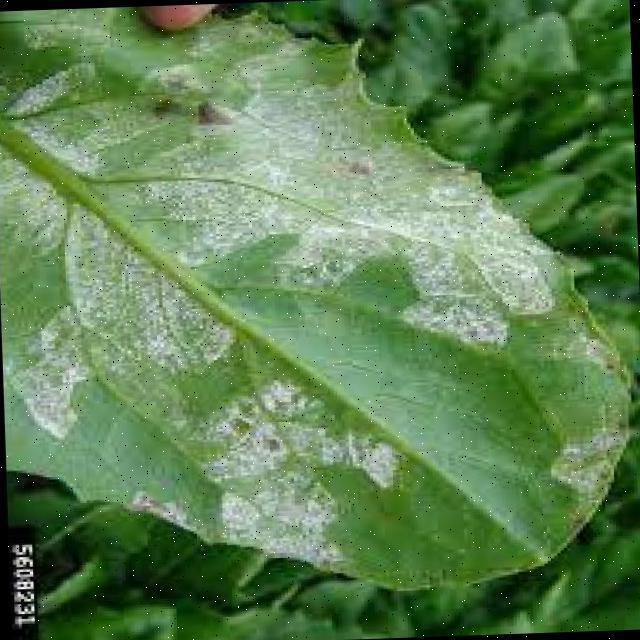Downy_Mildew: (0, 132, 396, 454)
